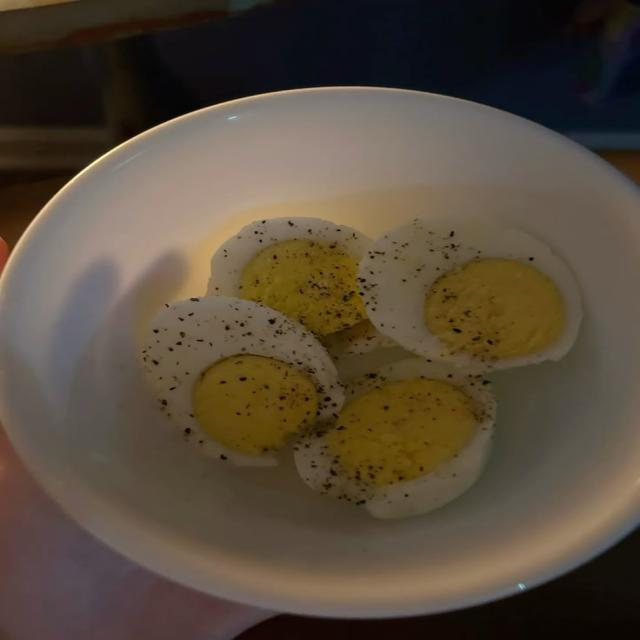eggs: (142, 203, 586, 506)
